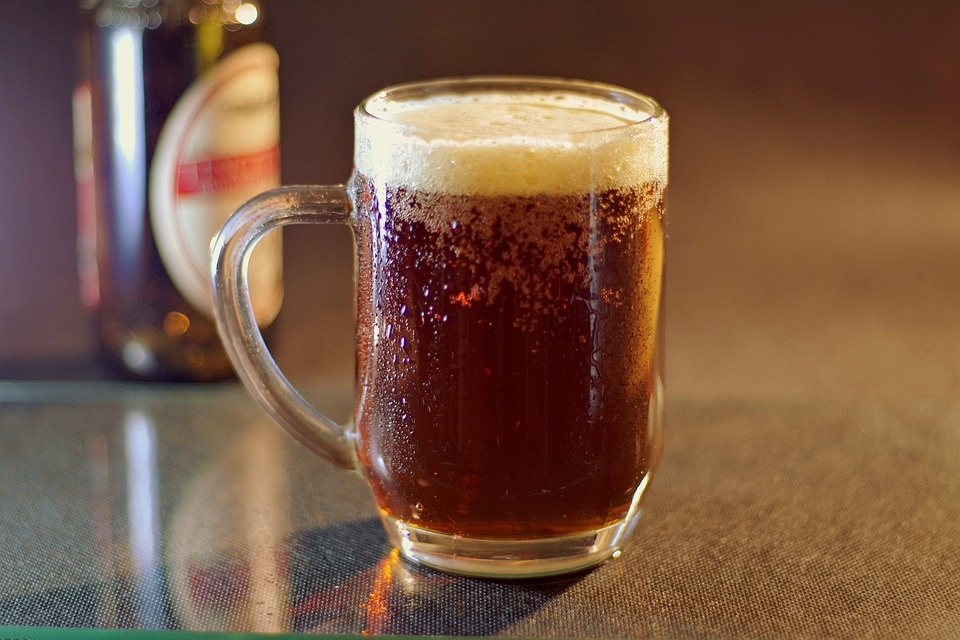glassBeer: (369, 88, 669, 568)
